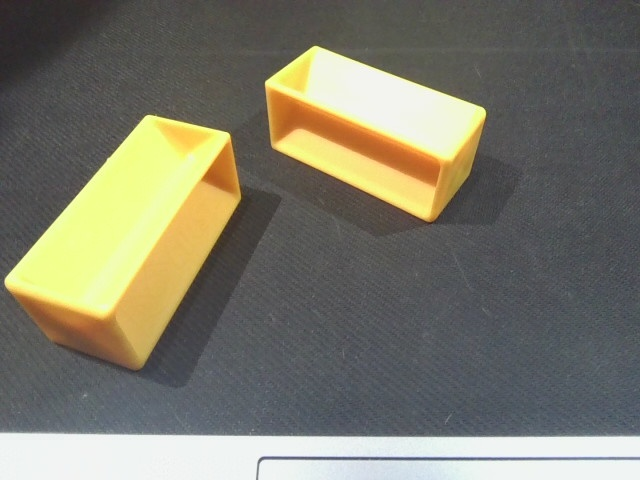YellowSample: (2, 110, 241, 380), (260, 43, 490, 224)
